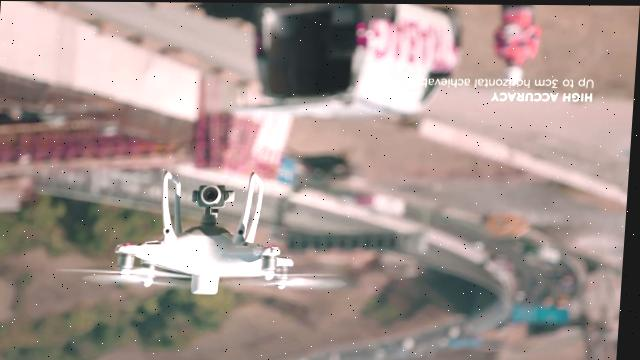drone: (55, 166, 357, 296)
